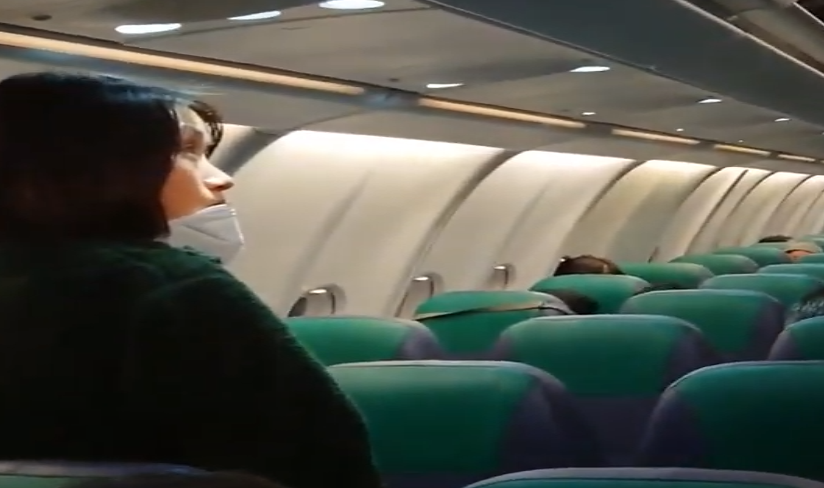mask_weared_incorrect: (59, 68, 250, 265)
